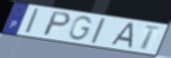A: (107, 22, 135, 50)
G: (67, 15, 95, 41)
I: (89, 17, 107, 44), (24, 7, 41, 35)
P: (41, 11, 73, 38)
T: (139, 25, 161, 52)
